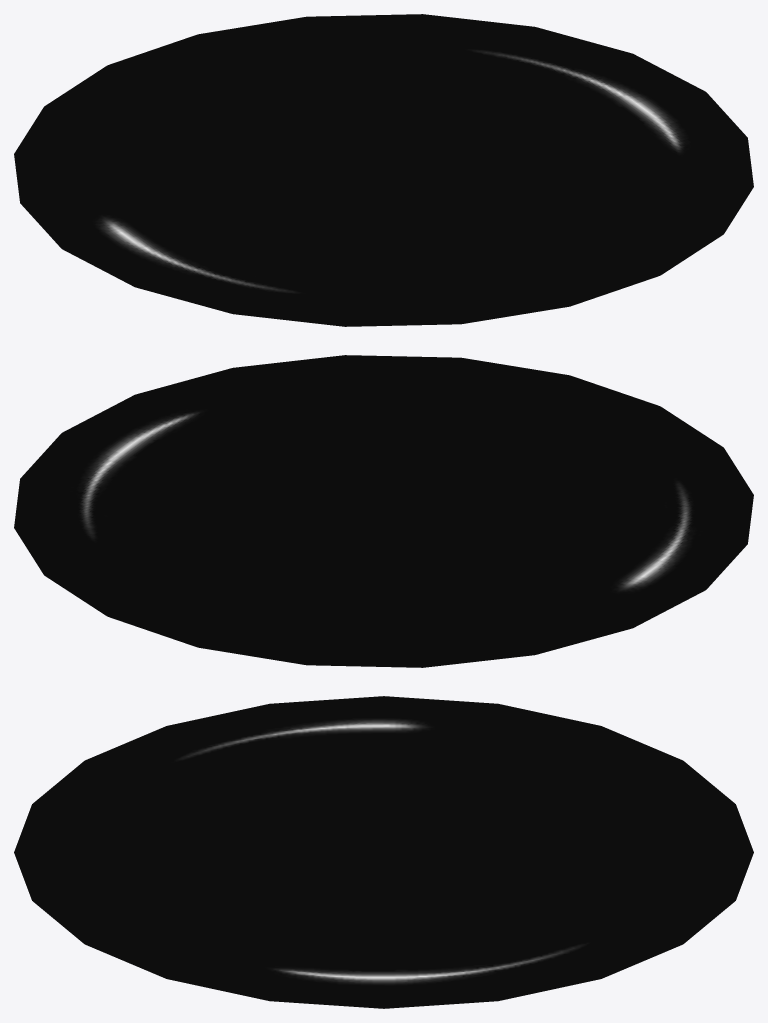
Rendered from 0025_GuoRanWeng_SkillC_1_Mesh_03.glb.
The picture shows the model from 3 angles, top to bottom: view 1: azimuth 30°, elevation 25°; view 2: azimuth 150°, elevation 25°; view 3: azimuth 270°, elevation 25°; orthographic projection.
Bounding box in the file's own units: 2.2 × 0 × 2.2.
Materials: 1 (1 with a texture image).
